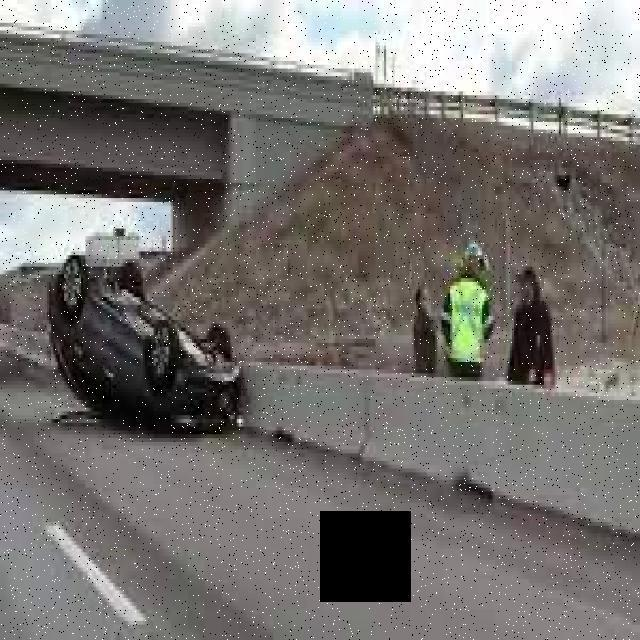single accident: (50, 254, 293, 454)
